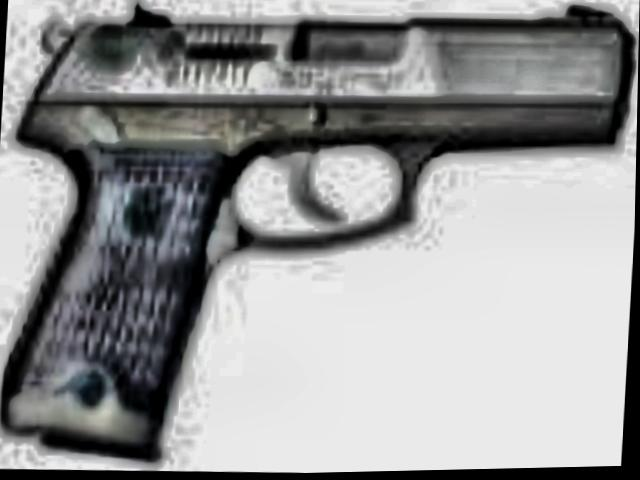pistol: (0, 0, 636, 470)
